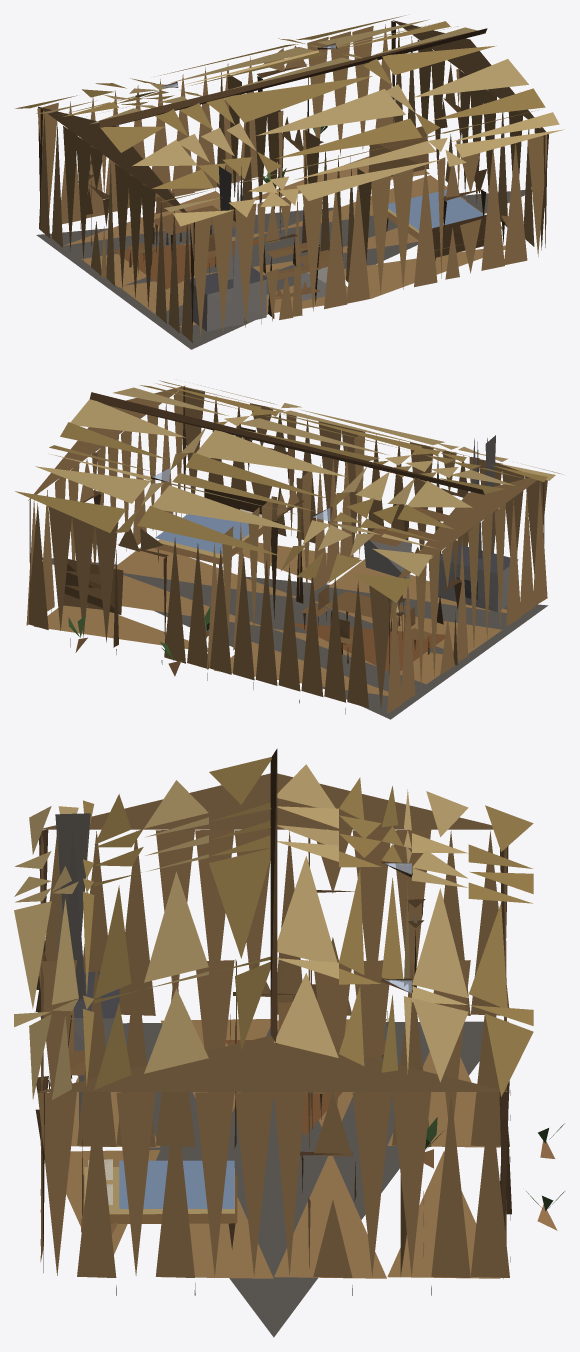
File: SM_CASA_02_CASA_MEDIANA_BAJA.glb
3 renders of one model, top to bottom at view 1: azimuth 30°, elevation 25°; view 2: azimuth 150°, elevation 25°; view 3: azimuth 270°, elevation 25°, orthographic. The views are drawn at different scales.
Visible parts, largest first — view 1: SM_Techo_Izq, SM_Pared_Norte, SM_Pared_Oeste, SM_Pared_Sur, SM_Pared_Este, SM_Cimiento, SM_Techo_Der, SM_Pared_Interior, SM_Suelo_Sala, SM_Suelo_Dormitorio, SM_Cocina_Lena, SM_Cama_Doble (+5 smaller); view 2: SM_Techo_Der, SM_Pared_Sur, SM_Pared_Oeste, SM_Pared_Norte, SM_Cimiento, SM_Techo_Izq, SM_Pared_Interior, SM_Suelo_Dormitorio, SM_Pared_Este, SM_Suelo_Sala, SM_Cama_Doble, SM_Cumbrera (+5 smaller); view 3: SM_Pared_Este, SM_Techo_Der, SM_Techo_Izq, SM_Pared_Oeste, SM_Pared_Interior, SM_Suelo_Dormitorio, SM_Cimiento, SM_Cama_Doble, SM_Suelo_Sala, SM_Chimenea_Exterior, SM_Pared_Sur, SM_Cumbrera (+4 smaller).
Part boxes in pixels (x1,y1,x2,y2): SM_Techo_Izq: [100, 45, 563, 226]; SM_Pared_Norte: [190, 134, 547, 338]; SM_Pared_Oeste: [38, 106, 192, 342]; SM_Pared_Sur: [37, 21, 395, 224]; SM_Pared_Este: [393, 20, 548, 250]; SM_Cimiento: [36, 156, 532, 349]; SM_Techo_Der: [15, 15, 485, 124]; SM_Pared_Interior: [217, 72, 371, 282]; SM_Suelo_Sala: [63, 191, 347, 327]; SM_Suelo_Dormitorio: [252, 156, 505, 298]; SM_Cocina_Lena: [190, 242, 320, 331]; SM_Cama_Doble: [386, 189, 524, 260]; SM_Techo_Der: [15, 399, 472, 602]; SM_Pared_Sur: [29, 499, 391, 708]; SM_Pared_Oeste: [387, 477, 547, 713]; SM_Pared_Norte: [182, 387, 547, 573]; SM_Cimiento: [42, 530, 548, 719]; SM_Techo_Izq: [113, 380, 562, 494]; SM_Pared_Interior: [207, 431, 365, 669]; SM_Suelo_Dormitorio: [34, 542, 359, 651]; SM_Pared_Este: [26, 385, 185, 625]; SM_Suelo_Sala: [214, 559, 506, 695]; SM_Cama_Doble: [154, 488, 267, 565]; SM_Cumbrera: [89, 392, 484, 494]; SM_Pared_Este: [37, 1035, 509, 1277]; SM_Techo_Der: [274, 764, 533, 1096]; SM_Techo_Izq: [14, 757, 271, 1099]; SM_Pared_Oeste: [38, 773, 509, 1015]; SM_Pared_Interior: [39, 959, 509, 1148]; SM_Suelo_Dormitorio: [66, 1150, 500, 1278]; SM_Cimiento: [77, 1021, 510, 1337]; SM_Cama_Doble: [81, 1140, 237, 1249]; SM_Suelo_Sala: [71, 1019, 500, 1147]; SM_Chimenea_Exterior: [55, 813, 90, 1000]; SM_Pared_Sur: [499, 846, 564, 1278]; SM_Cumbrera: [270, 748, 277, 1044].
Bounding box in the file's own units: 9.78 × 3.8 × 7.01.
